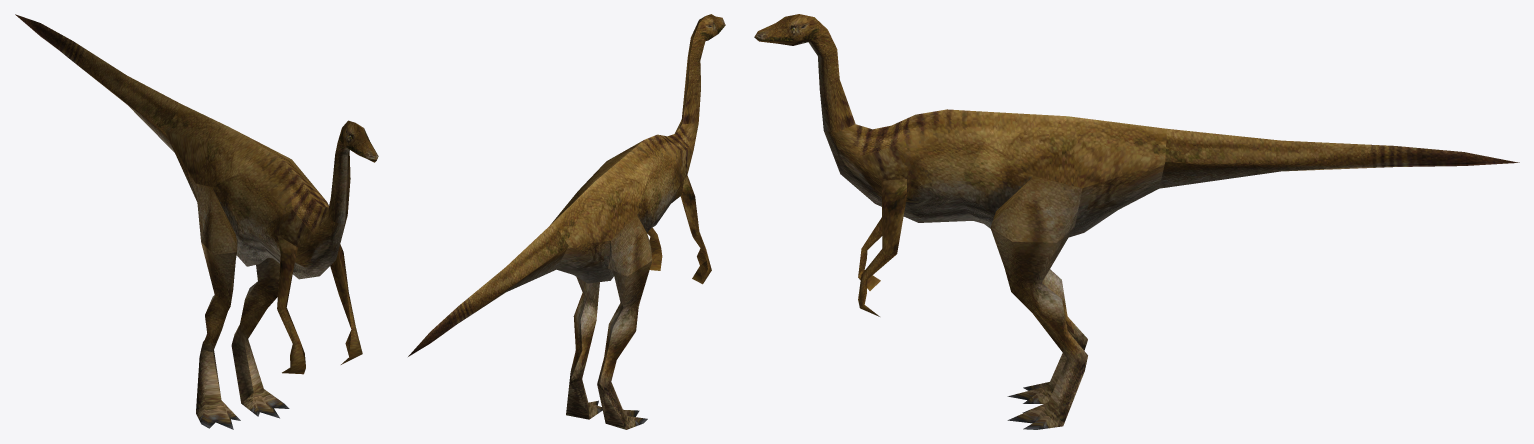
The model's file is galli.obj.
3 renders of one model, left to right at view 1: azimuth 30°, elevation 25°; view 2: azimuth 150°, elevation 25°; view 3: azimuth 270°, elevation 25°, orthographic. The views are drawn at different scales.
Parts seen in each view (by area): view 1: galli; view 2: galli; view 3: galli.
Part boxes in pixels (box(x1,y1,x2,y2)): galli: box(15, 14, 378, 429); galli: box(408, 14, 725, 429); galli: box(754, 14, 1519, 429).
Size of the model in its own units: 0.518 by 2.22 by 3.9.
Materials: 1 (1 with a texture image).
